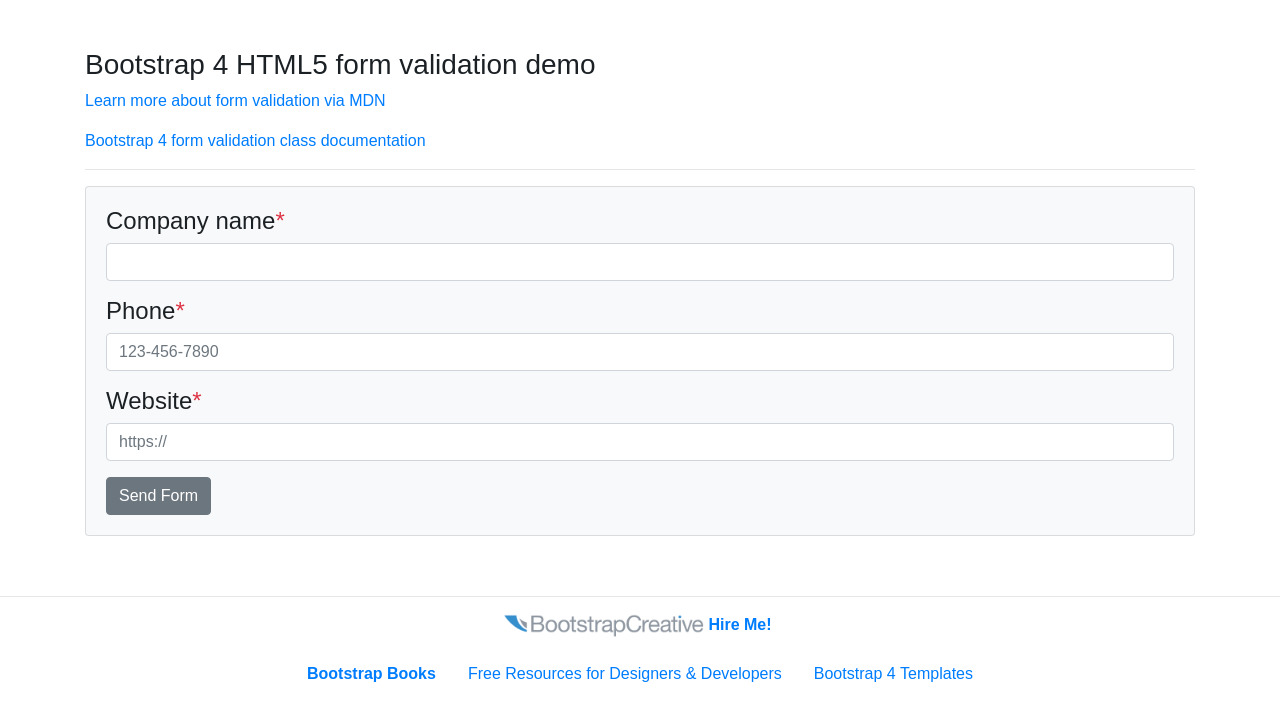_form_: (95, 186, 1185, 615)
button: (104, 474, 214, 517)
field: (99, 238, 1179, 284), (100, 419, 1175, 465), (100, 332, 1177, 374)
field_with_label: (95, 206, 1182, 288), (97, 388, 1178, 469), (96, 298, 1179, 376)
